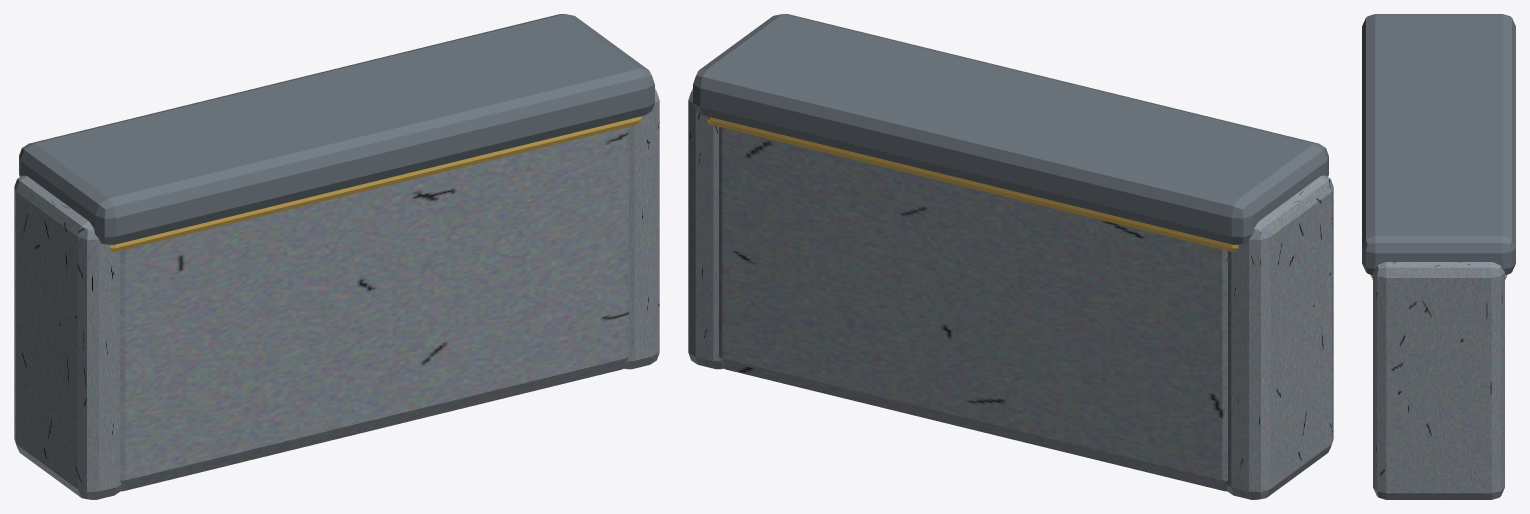
The model's file is cover_barrier.glb.
3 views of the same model, side by side, from view 1: azimuth 30°, elevation 25°; view 2: azimuth 150°, elevation 25°; view 3: azimuth 270°, elevation 25° (orthographic). The views are drawn at different scales.
Parts seen in each view (by area): view 1: CoverBody, CoverTop, CoverEnd-10, CoverEnd10, CoverHazard; view 2: CoverBody, CoverTop, CoverEnd-10, CoverEnd10, CoverHazard; view 3: CoverTop, CoverEnd10.
Part boxes in pixels (<box>): CoverBody: <box>120,127,628,491</box>; CoverTop: <box>19,14,654,244</box>; CoverEnd-10: <box>14,175,121,499</box>; CoverEnd10: <box>624,88,659,369</box>; CoverHazard: <box>109,116,641,252</box>; CoverBody: <box>719,127,1227,491</box>; CoverTop: <box>693,14,1328,244</box>; CoverEnd-10: <box>1226,175,1333,499</box>; CoverEnd10: <box>688,88,723,369</box>; CoverHazard: <box>706,116,1238,252</box>; CoverTop: <box>1362,14,1515,275</box>; CoverEnd10: <box>1373,262,1504,499</box>.
Bounding box in the file's own units: 2.6 × 1.3 × 0.7.
Materials: 3 (1 with a texture image).
